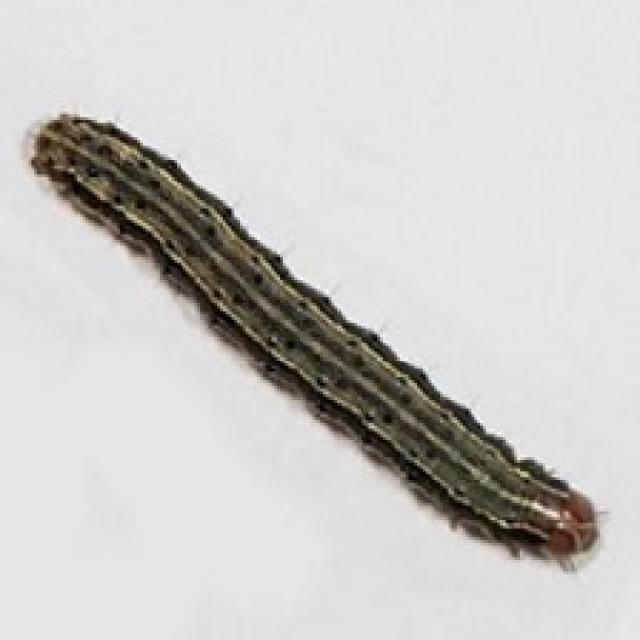Fall-armyworm: (33, 107, 609, 587)
